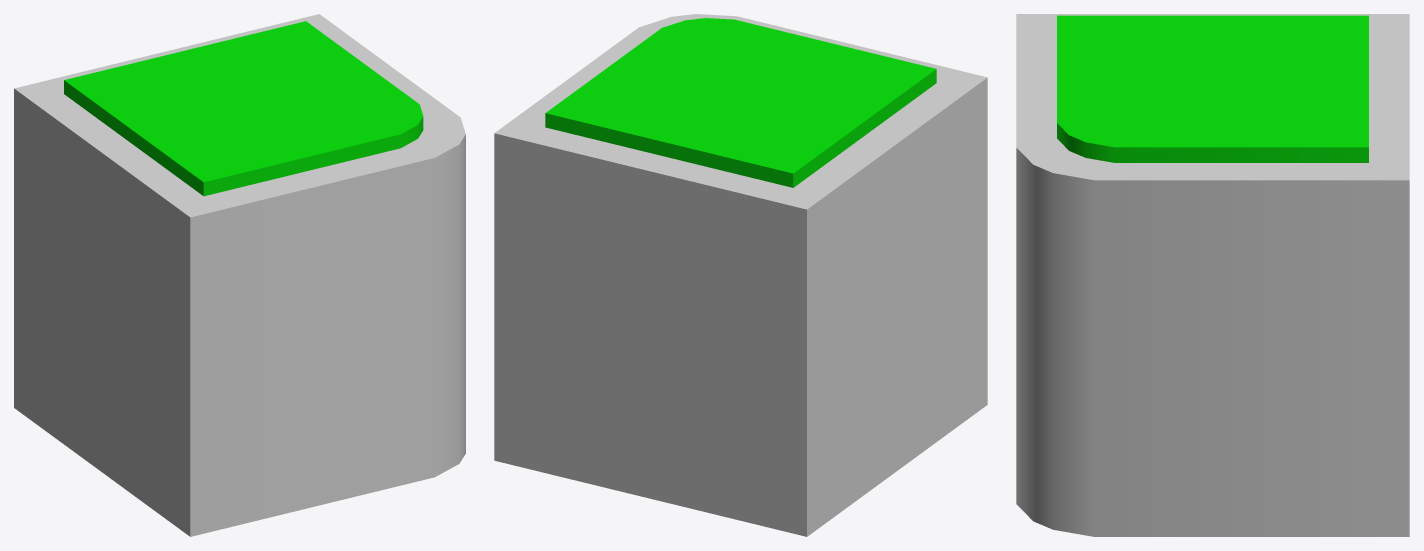
File: TileNormal_1sides.fbx
The picture shows the model from 3 angles, left to right: view 1: azimuth 30°, elevation 25°; view 2: azimuth 150°, elevation 25°; view 3: azimuth 270°, elevation 25°; orthographic projection. The views are drawn at different scales.
Visible parts, largest first — view 1: TileNormal_1sides; view 2: TileNormal_1sides; view 3: TileNormal_1sides.
Part boxes in pixels (x1=…): TileNormal_1sides: x1=14, y1=14, x2=465, y2=536; TileNormal_1sides: x1=494, y1=14, x2=987, y2=536; TileNormal_1sides: x1=1016, y1=14, x2=1409, y2=536.
Size of the model in its own units: 100 by 104 by 100.
